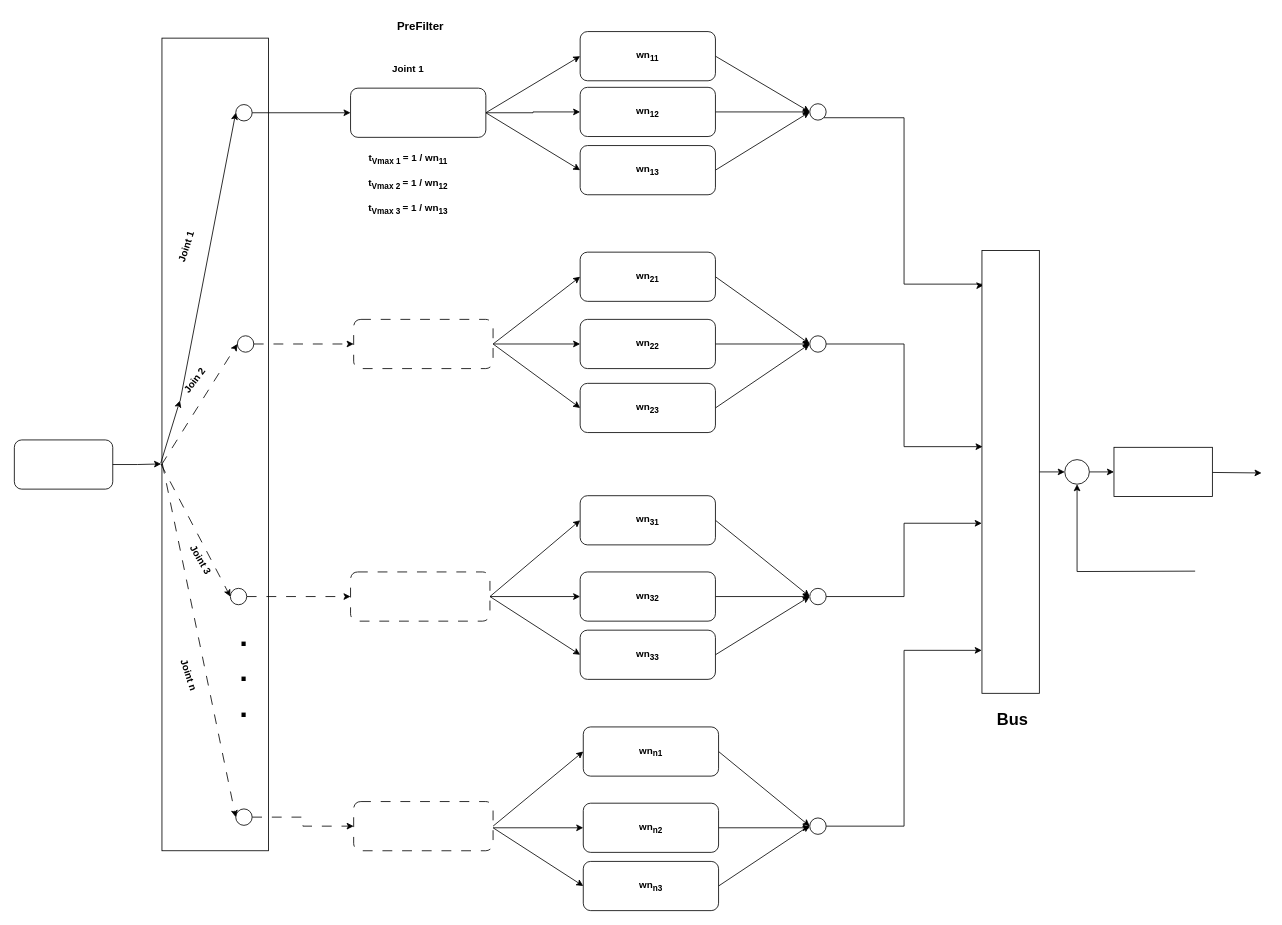
This 1282x925 diagram has some shape labels left out. Here are the shapes that lost their labels. From the top down, the box of each, then its label:
(350, 87, 486, 137): wn 1 = [ wn 11 wn 12 wn 13 ]
(353, 319, 493, 369): wn 2 = [ wn 21 wn 22 wn 23 ]
(14, 439, 113, 489): Final point
(1113, 446, 1212, 497): PD Controller
(350, 571, 490, 621): wn 3 = [ wn 31 wn 32 wn 33 ]
(353, 801, 493, 851): wn n = [ wn n1 wn n2 wn n3 ]
